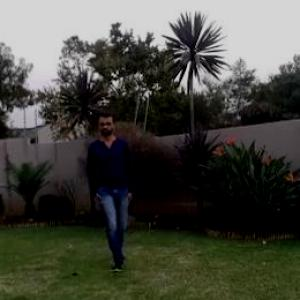follow: (91, 108, 136, 260)
